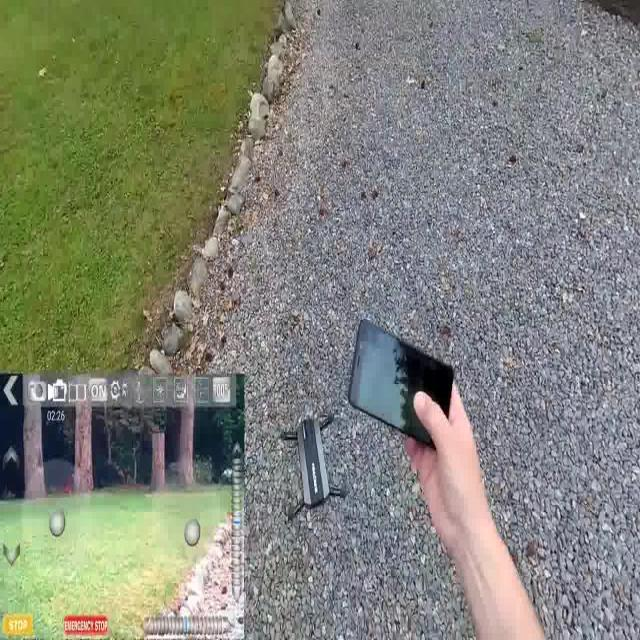drone: (279, 409, 347, 531)
